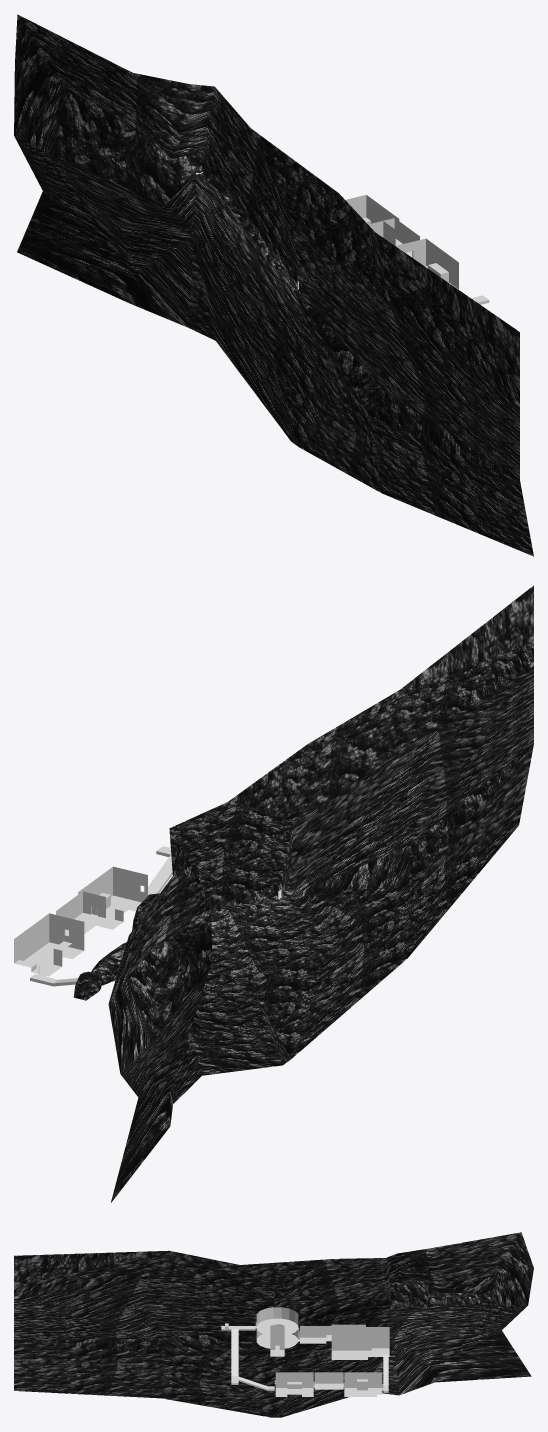
The model's file is Level1.glb.
3 views of the same model, one above another, from view 1: azimuth 30°, elevation 25°; view 2: azimuth 150°, elevation 25°; view 3: azimuth 270°, elevation 25° (orthographic). The views are drawn at different scales.
Visible parts, largest first — view 1: Wall, Stage2; view 2: Wall, Stage2, Start; view 3: Wall, Stage1, Stage2, Cylinder, Start, entity103_brush12.001.
Part boxes in pixels (x1,y1,x2,y2): Wall: (14, 14, 533, 556); Stage2: (345, 195, 458, 289); Wall: (108, 585, 533, 1202); Stage2: (14, 866, 147, 976); Start: (73, 893, 159, 1000); Wall: (14, 1232, 533, 1417); Stage1: (300, 1324, 389, 1359); Stage2: (274, 1372, 383, 1396); Cylinder: (255, 1307, 299, 1356); Start: (389, 1280, 496, 1308); entity103_brush12.001: (231, 1329, 238, 1376).
Size of the model in its own units: 134 by 163 by 460.
Materials: 3 (1 with a texture image).
